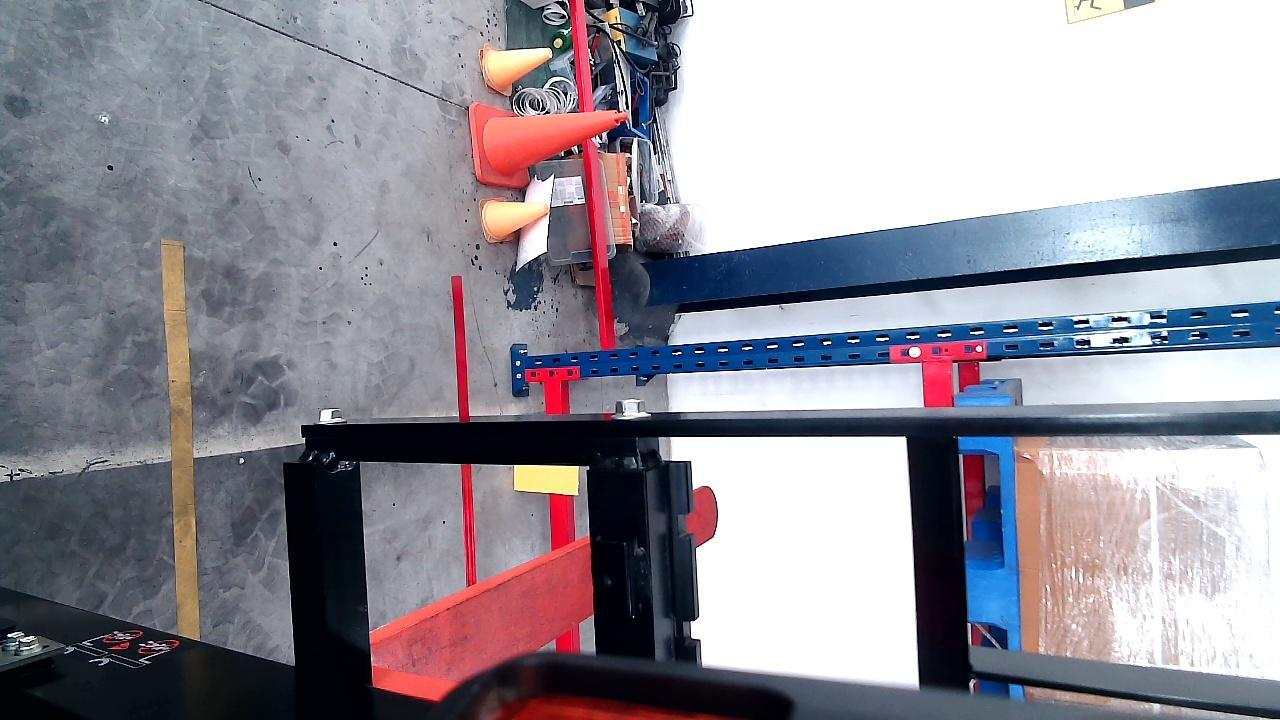red_line: (450, 277, 482, 589)
yellow_line: (168, 235, 199, 640)
